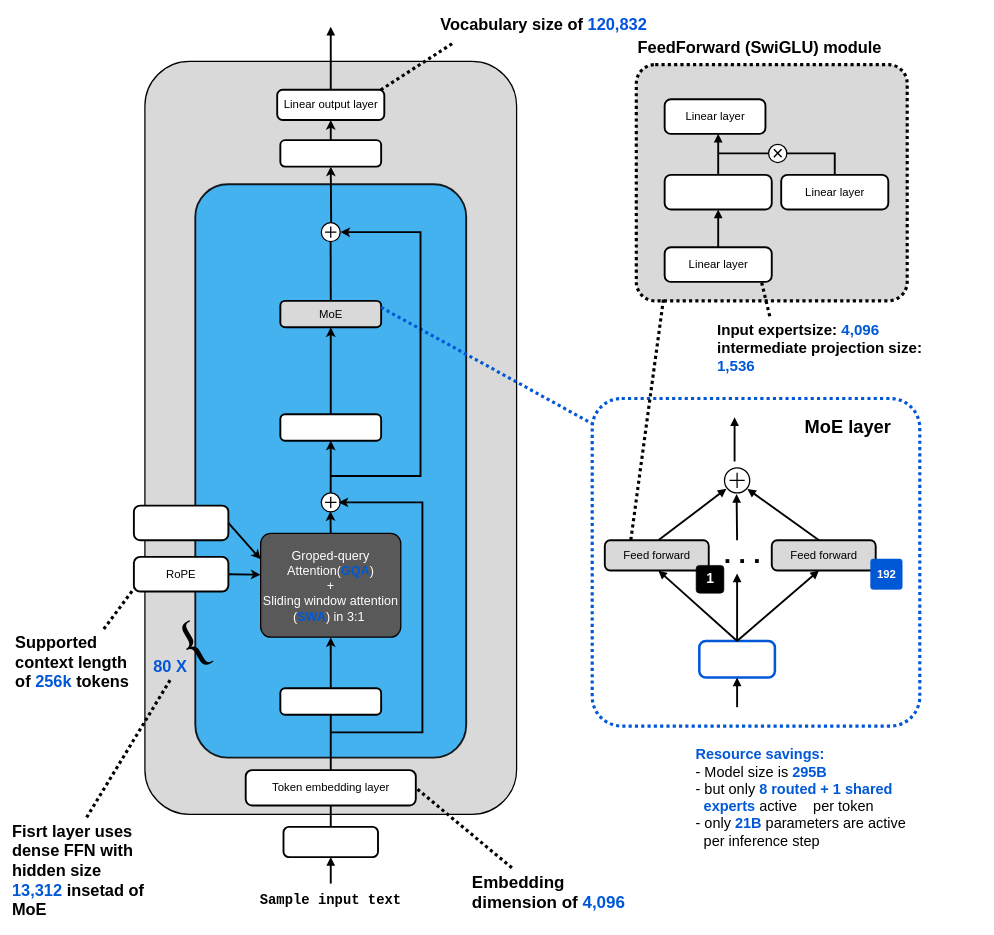
Some shapes in this 994 by 935 pixel diagram are drawn without their labels. Each missing label, with the box of its shape:
Final RMSNorm: (279, 139, 382, 167)
QK-Norm: (133, 504, 229, 541)
RMSNorm 1: (279, 687, 382, 715)
RMSNorm 2: (279, 413, 382, 441)
Router: (698, 639, 776, 679)
SiLU activation: (663, 174, 772, 210)
Tokenized text: (282, 826, 379, 858)
